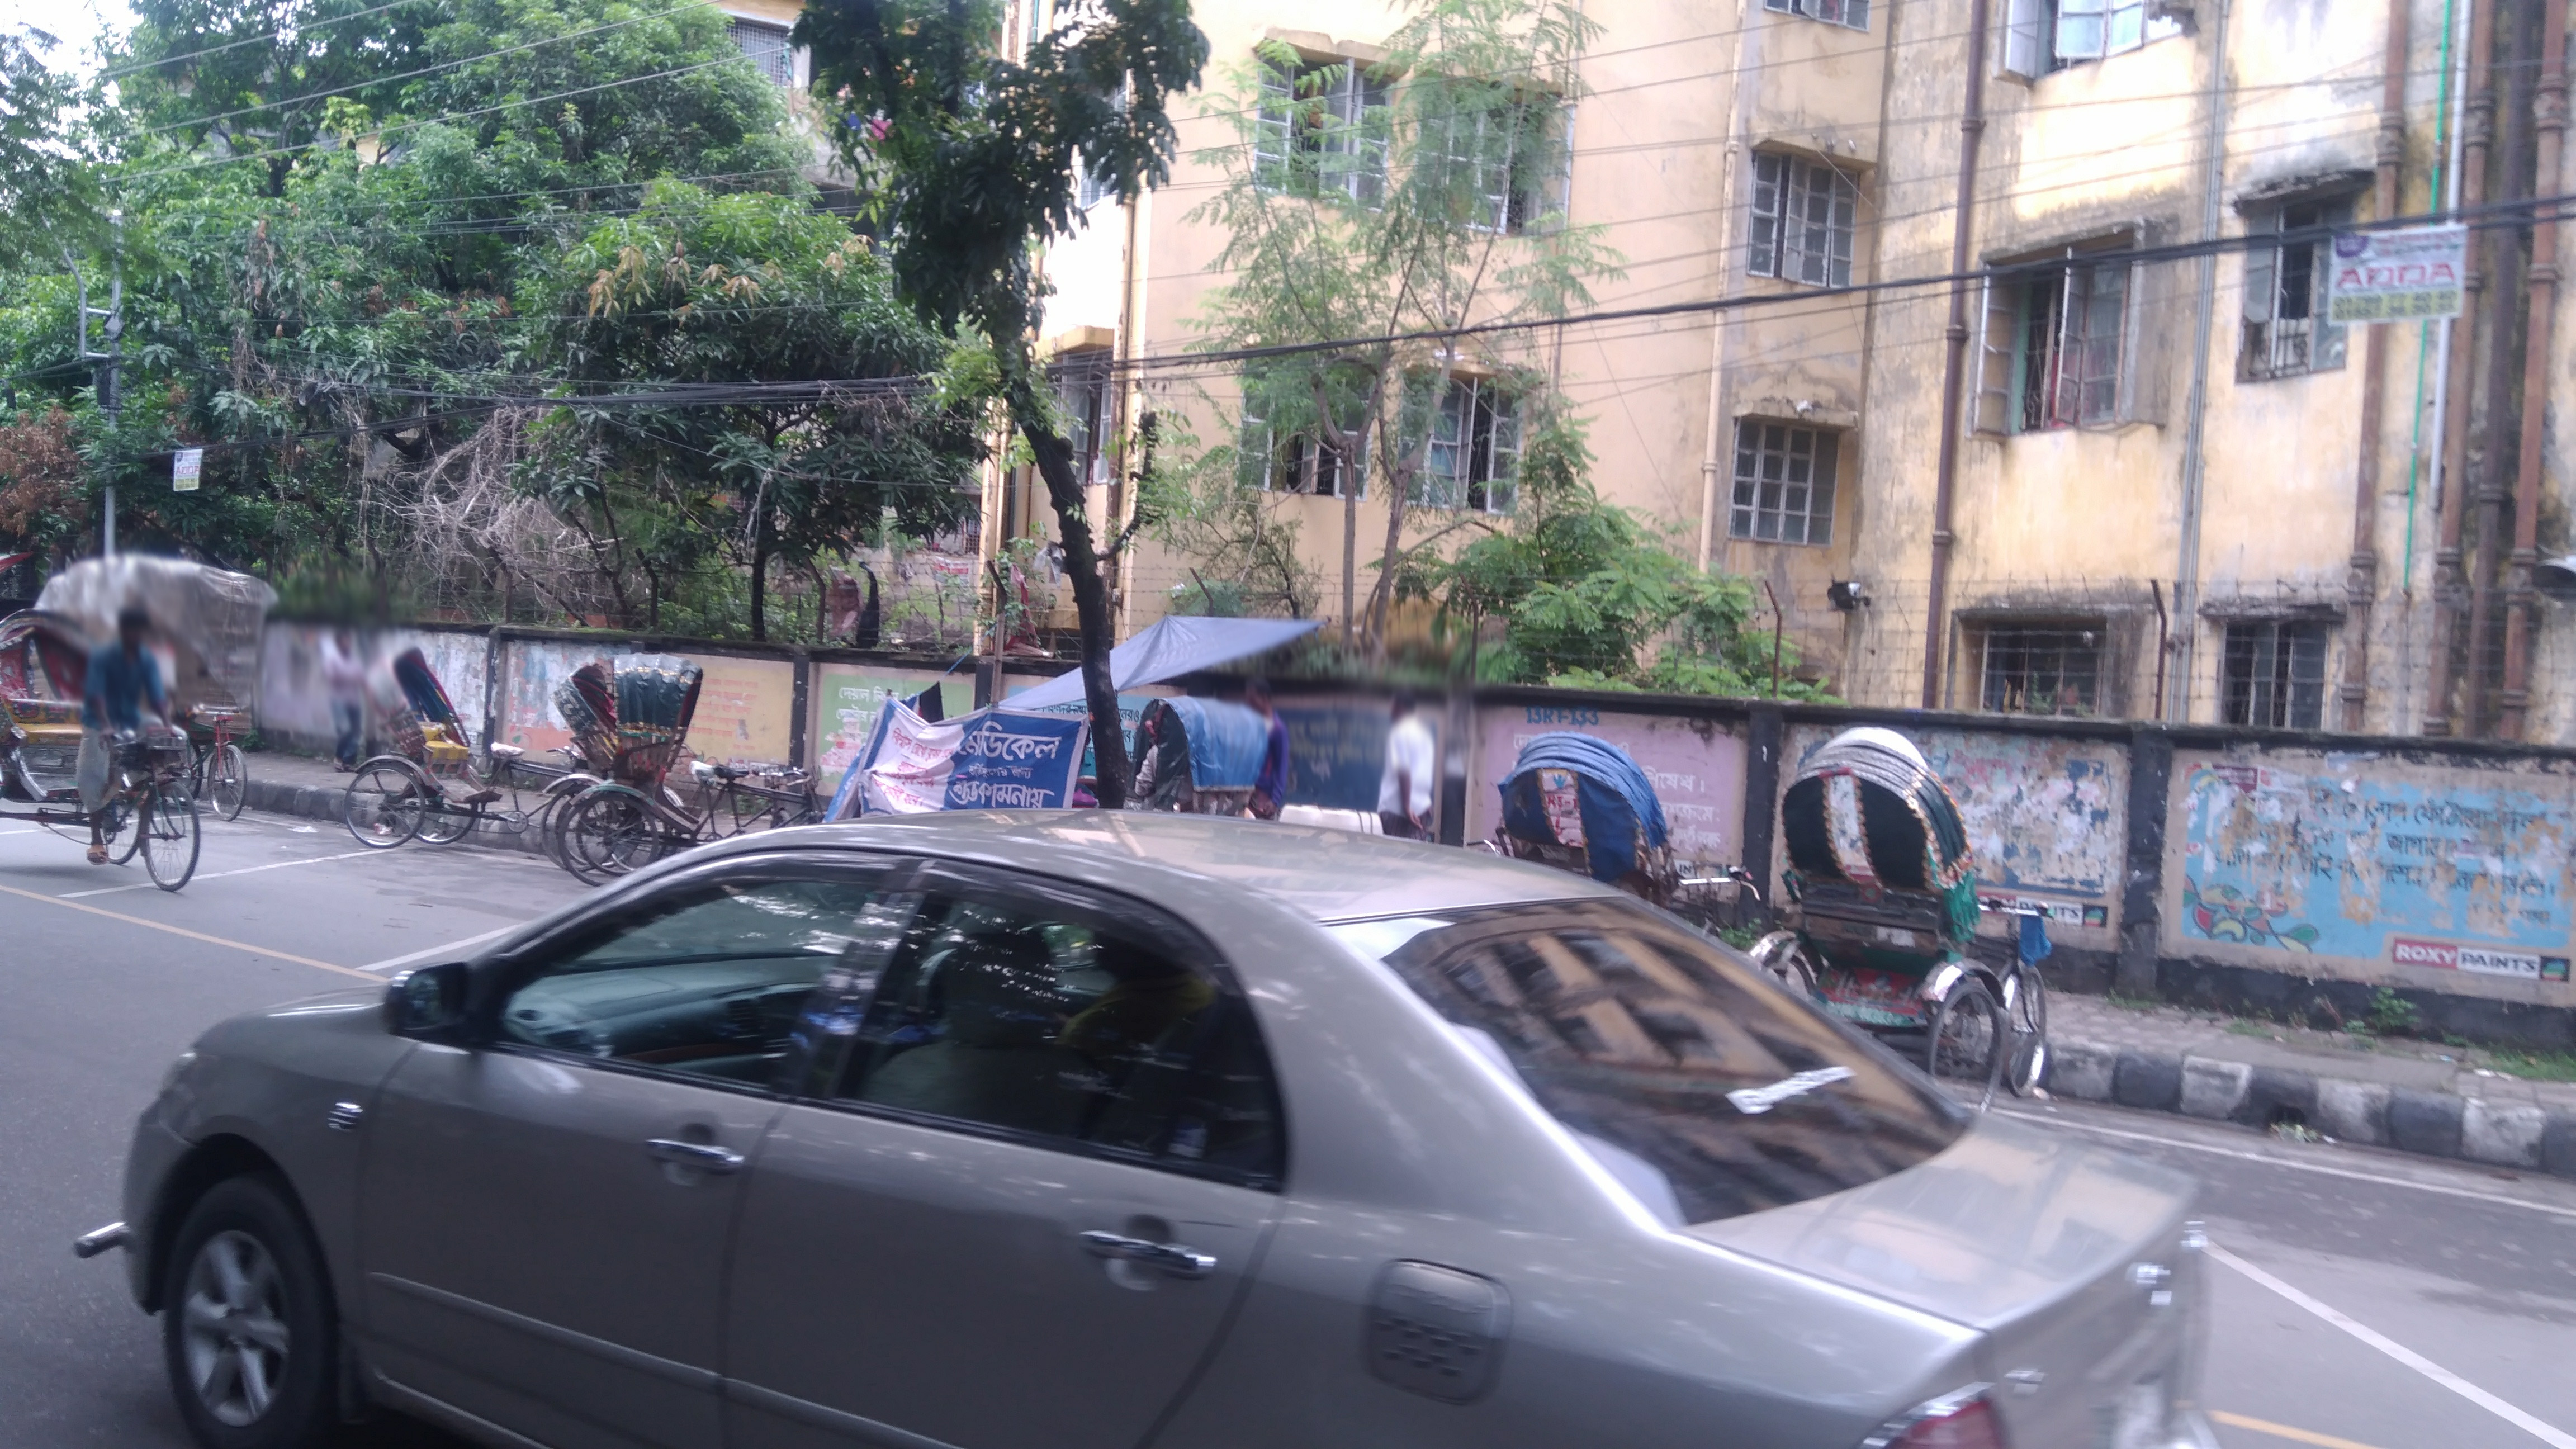car: (74, 810, 2233, 1449)
rickshaw: (1753, 688, 2088, 1108), (0, 591, 230, 908), (580, 642, 817, 892), (1499, 720, 1764, 911), (349, 628, 548, 849), (1115, 674, 1304, 840)
